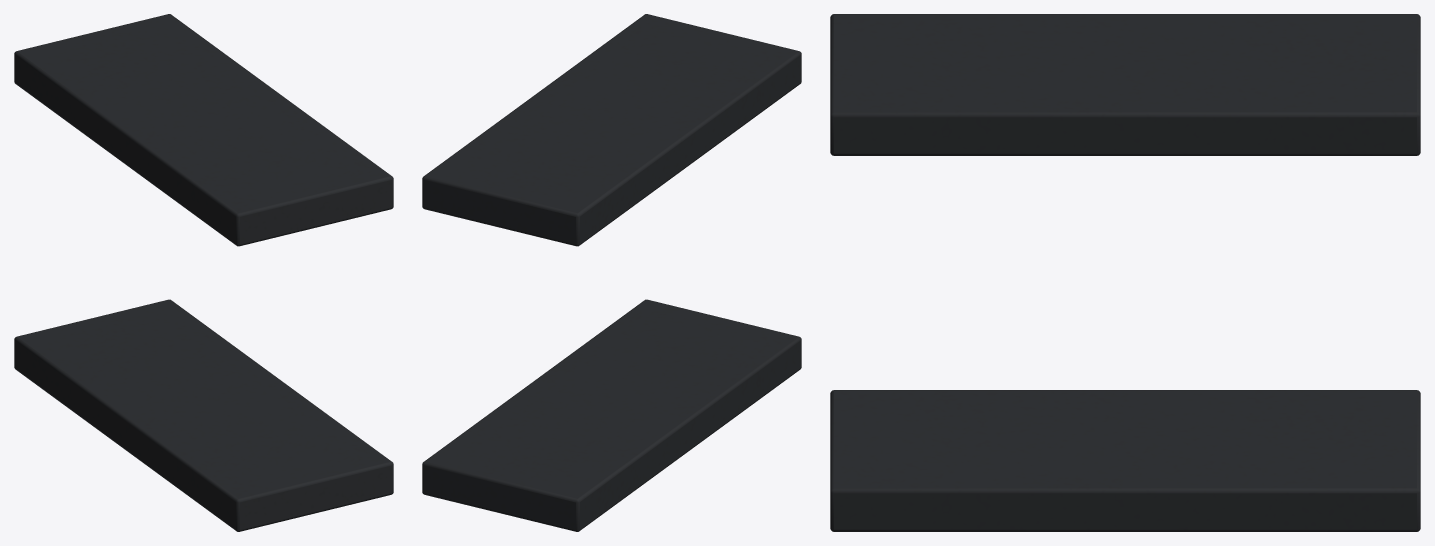
File: caster_swivel_link.obj
3 renders of one model, left to right at view 1: azimuth 30°, elevation 25°; view 2: azimuth 150°, elevation 25°; view 3: azimuth 270°, elevation 25°, orthographic. The views are drawn at different scales.
Visible parts, largest first — view 1: caster_swivel_link__fork_cheek_-1, caster_swivel_link__fork_cheek_1; view 2: caster_swivel_link__fork_cheek_-1, caster_swivel_link__fork_cheek_1; view 3: caster_swivel_link__fork_cheek_-1, caster_swivel_link__fork_cheek_1.
Boxes of the visible parts, bbox=[...] form: caster_swivel_link__fork_cheek_-1: bbox=[14, 299, 393, 531]; caster_swivel_link__fork_cheek_1: bbox=[14, 14, 393, 246]; caster_swivel_link__fork_cheek_-1: bbox=[422, 299, 801, 531]; caster_swivel_link__fork_cheek_1: bbox=[422, 14, 801, 246]; caster_swivel_link__fork_cheek_-1: bbox=[830, 390, 1420, 531]; caster_swivel_link__fork_cheek_1: bbox=[830, 14, 1420, 155].
Size of the model in its own units: 0.03 by 0.058 by 0.074.
1 material, 1 textured.
